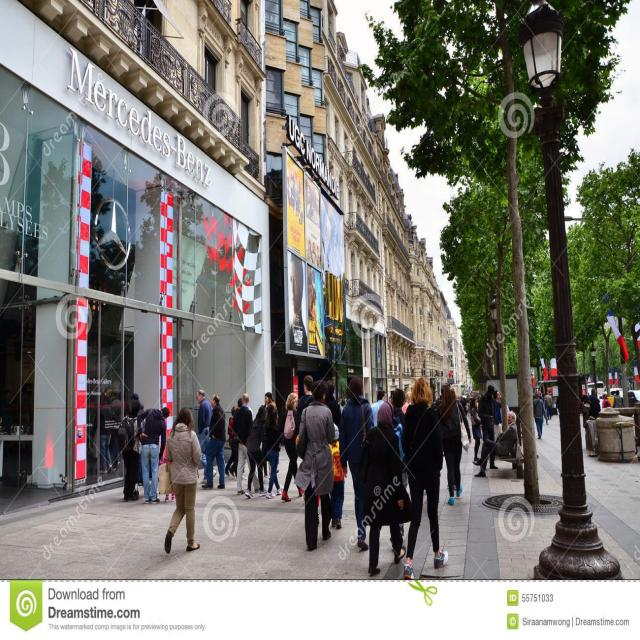body: (284, 147, 350, 359), (400, 376, 449, 580), (361, 401, 406, 576), (295, 378, 334, 551), (338, 377, 376, 550), (158, 406, 202, 554), (436, 384, 472, 505), (136, 406, 170, 504), (473, 411, 516, 477), (281, 392, 306, 501), (236, 390, 260, 496), (202, 394, 226, 491), (118, 402, 141, 503), (326, 424, 346, 530), (246, 404, 268, 500), (196, 388, 217, 484), (92, 391, 114, 474), (479, 384, 500, 468), (392, 387, 408, 489), (266, 410, 284, 500), (231, 397, 248, 481), (108, 388, 123, 476), (264, 392, 279, 479), (580, 385, 624, 414), (224, 404, 241, 478), (296, 374, 316, 436), (323, 382, 342, 430), (158, 454, 176, 504), (472, 397, 482, 462), (533, 392, 546, 440), (492, 390, 503, 442), (371, 390, 386, 428), (515, 408, 525, 449), (553, 394, 564, 427), (458, 389, 484, 401), (545, 391, 553, 420), (541, 394, 548, 424), (338, 398, 346, 418), (128, 392, 140, 402), (434, 388, 442, 403), (462, 402, 470, 415), (406, 390, 413, 404), (388, 397, 392, 402)
